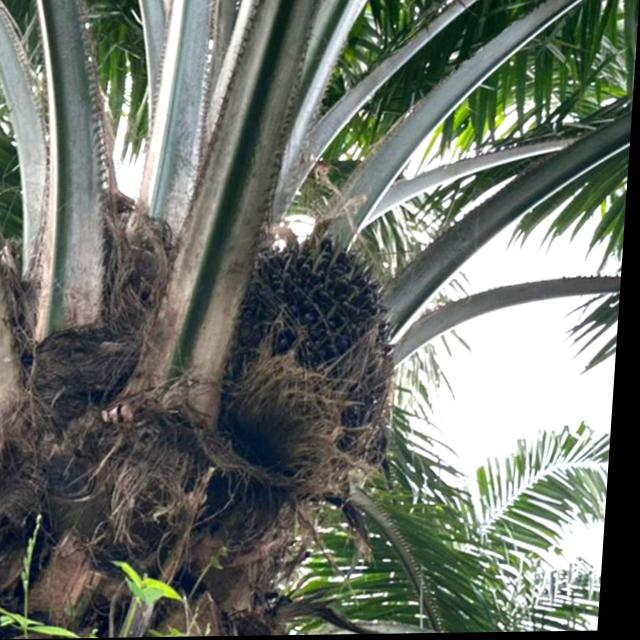almost: (219, 225, 416, 471)
